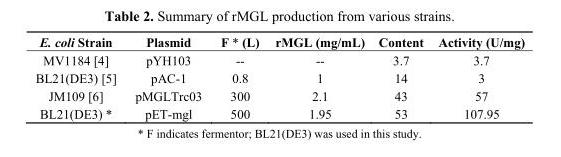table: (34, 34, 524, 120)
table column: (266, 34, 370, 120), (430, 34, 524, 120), (34, 34, 125, 120), (125, 34, 210, 120), (370, 34, 430, 120), (210, 34, 266, 120)
table column header: (34, 34, 524, 50)
table row: (34, 50, 524, 68), (34, 68, 524, 86), (34, 86, 524, 104), (34, 34, 524, 50), (34, 104, 524, 120)
